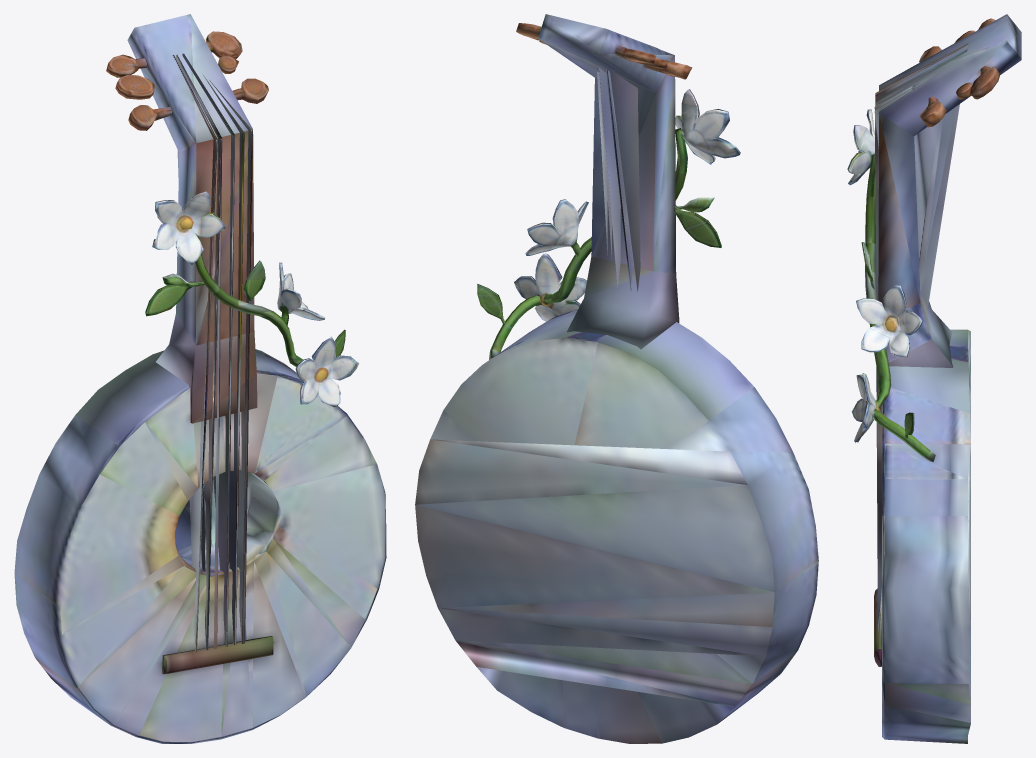
The model's file is item-moonLute.glb.
3 views of the same model, side by side, from view 1: azimuth 30°, elevation 25°; view 2: azimuth 150°, elevation 25°; view 3: azimuth 270°, elevation 25° (orthographic). The views are drawn at different scales.
Bounding box in the file's own units: 0.4902 × 0.9526 × 0.2173.
1 material, 1 textured.
